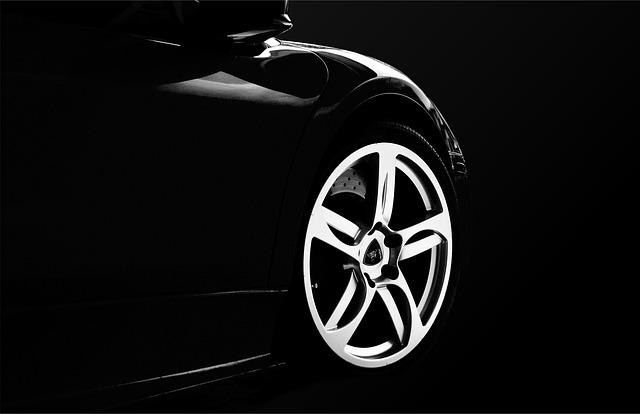Non_Gorille: (173, 20, 585, 371)
